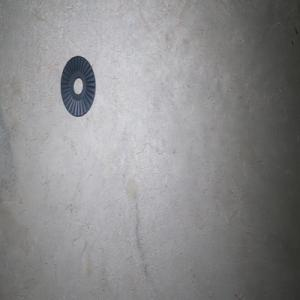Washer: (60, 55, 95, 117)
